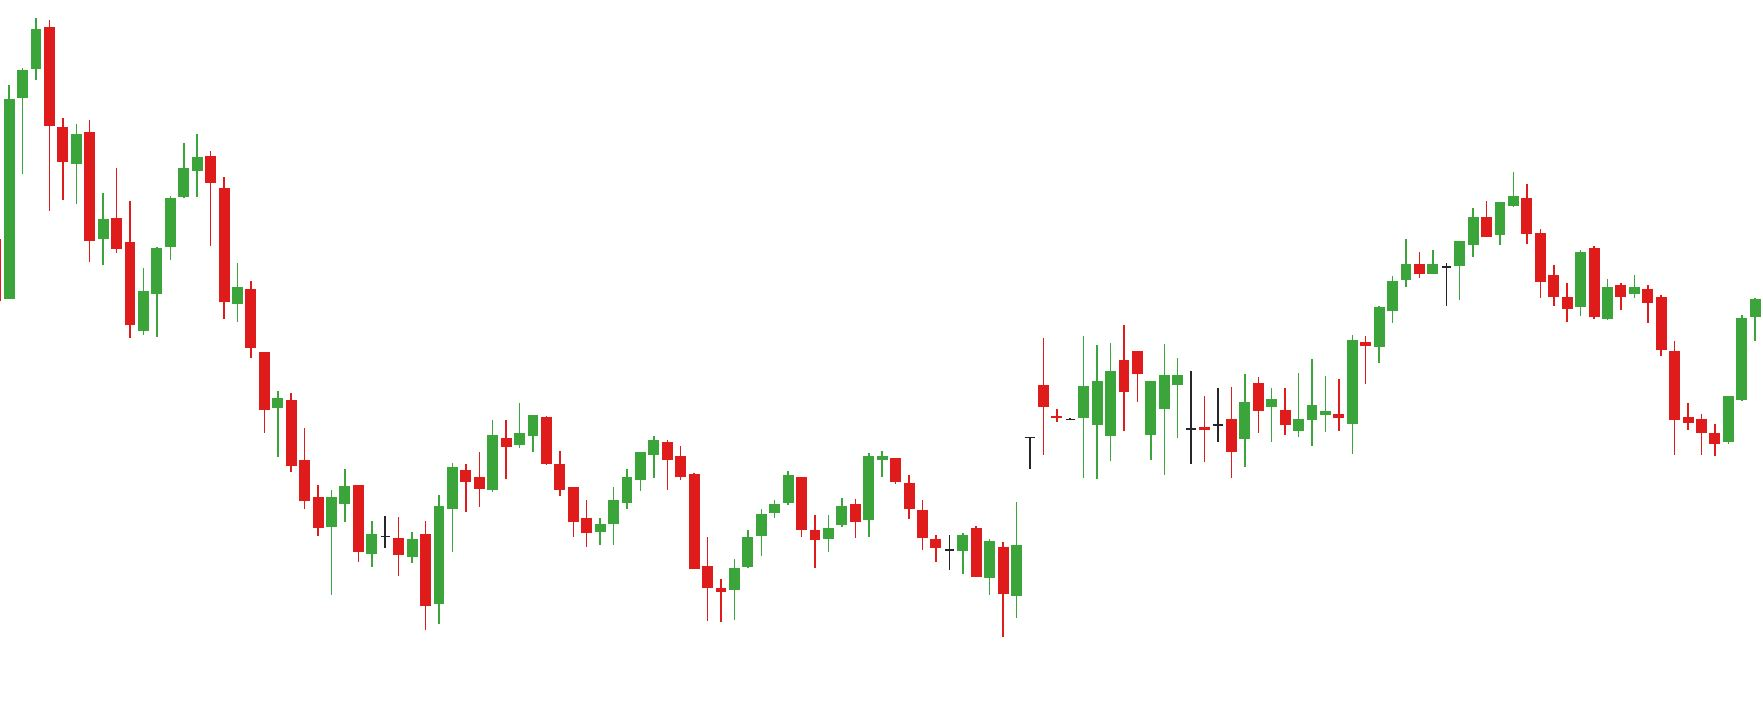buy: (578, 459, 754, 628)
sell: (110, 134, 215, 271)
